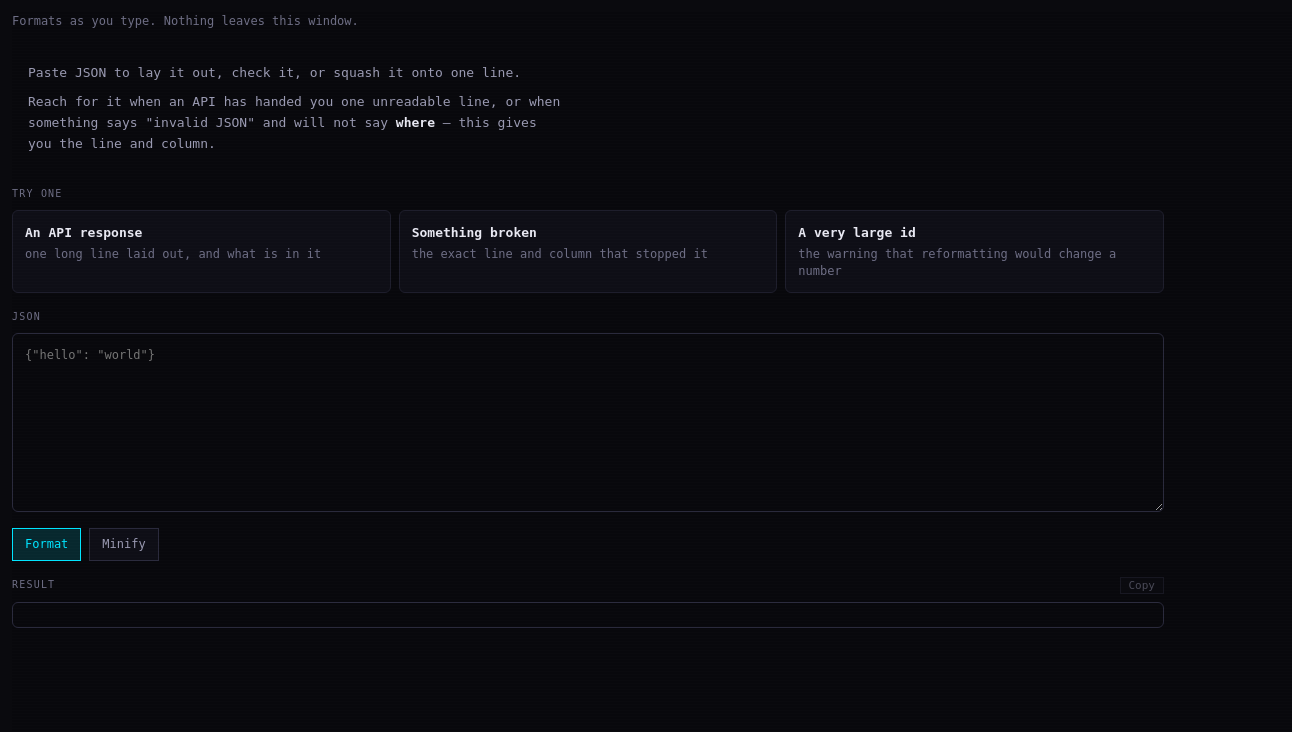
Test: JsonTool › says which line and column stopped it
Click the text box labelled "JSON": (588, 423) [12,333,1164,512]
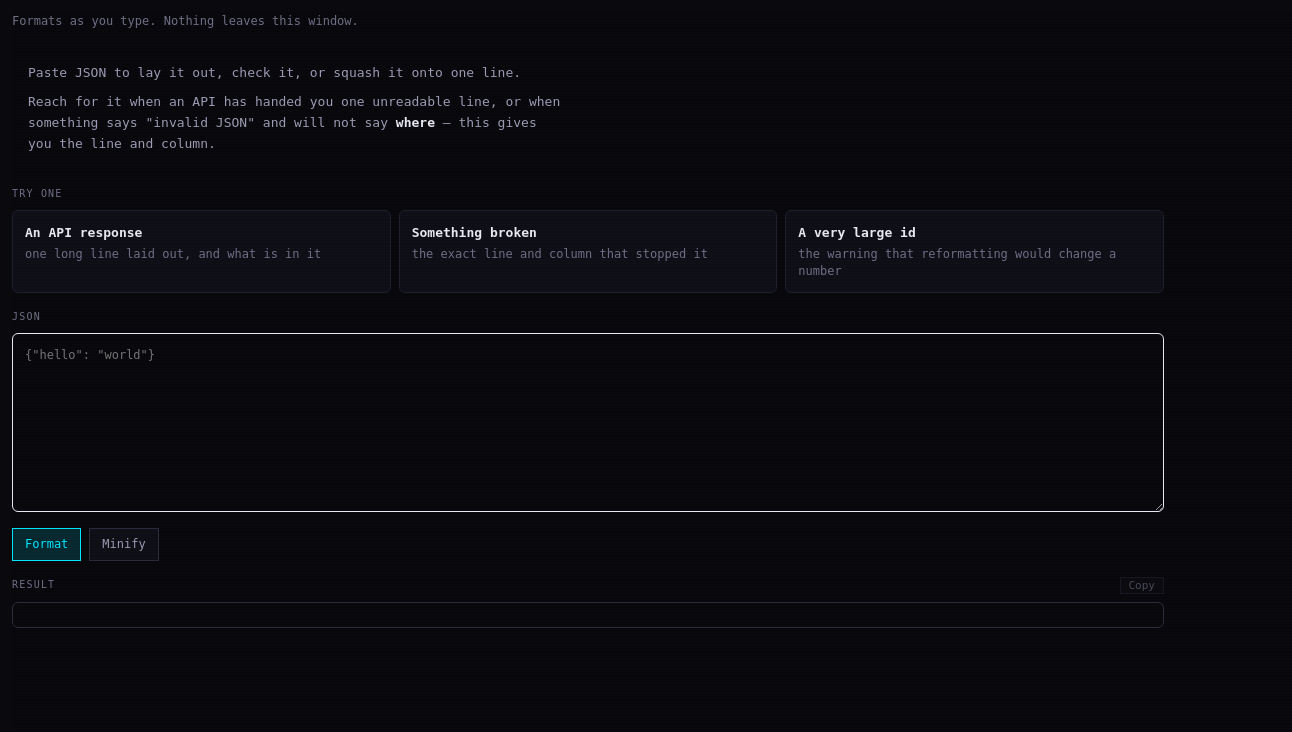
Type keys "{\"a\":,}"
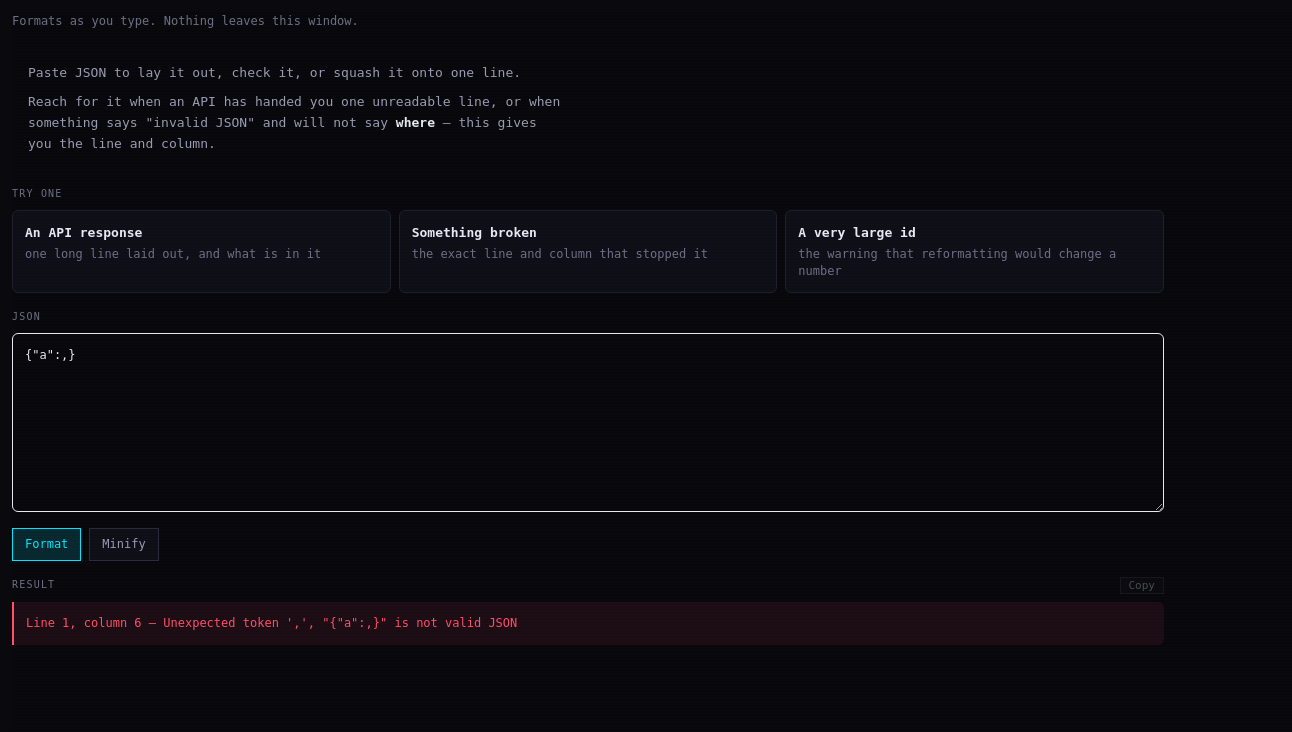
Result: the message shows "Line 1" at [26,616,517,630]
Result: the message shows "column" at [26,616,517,630]
